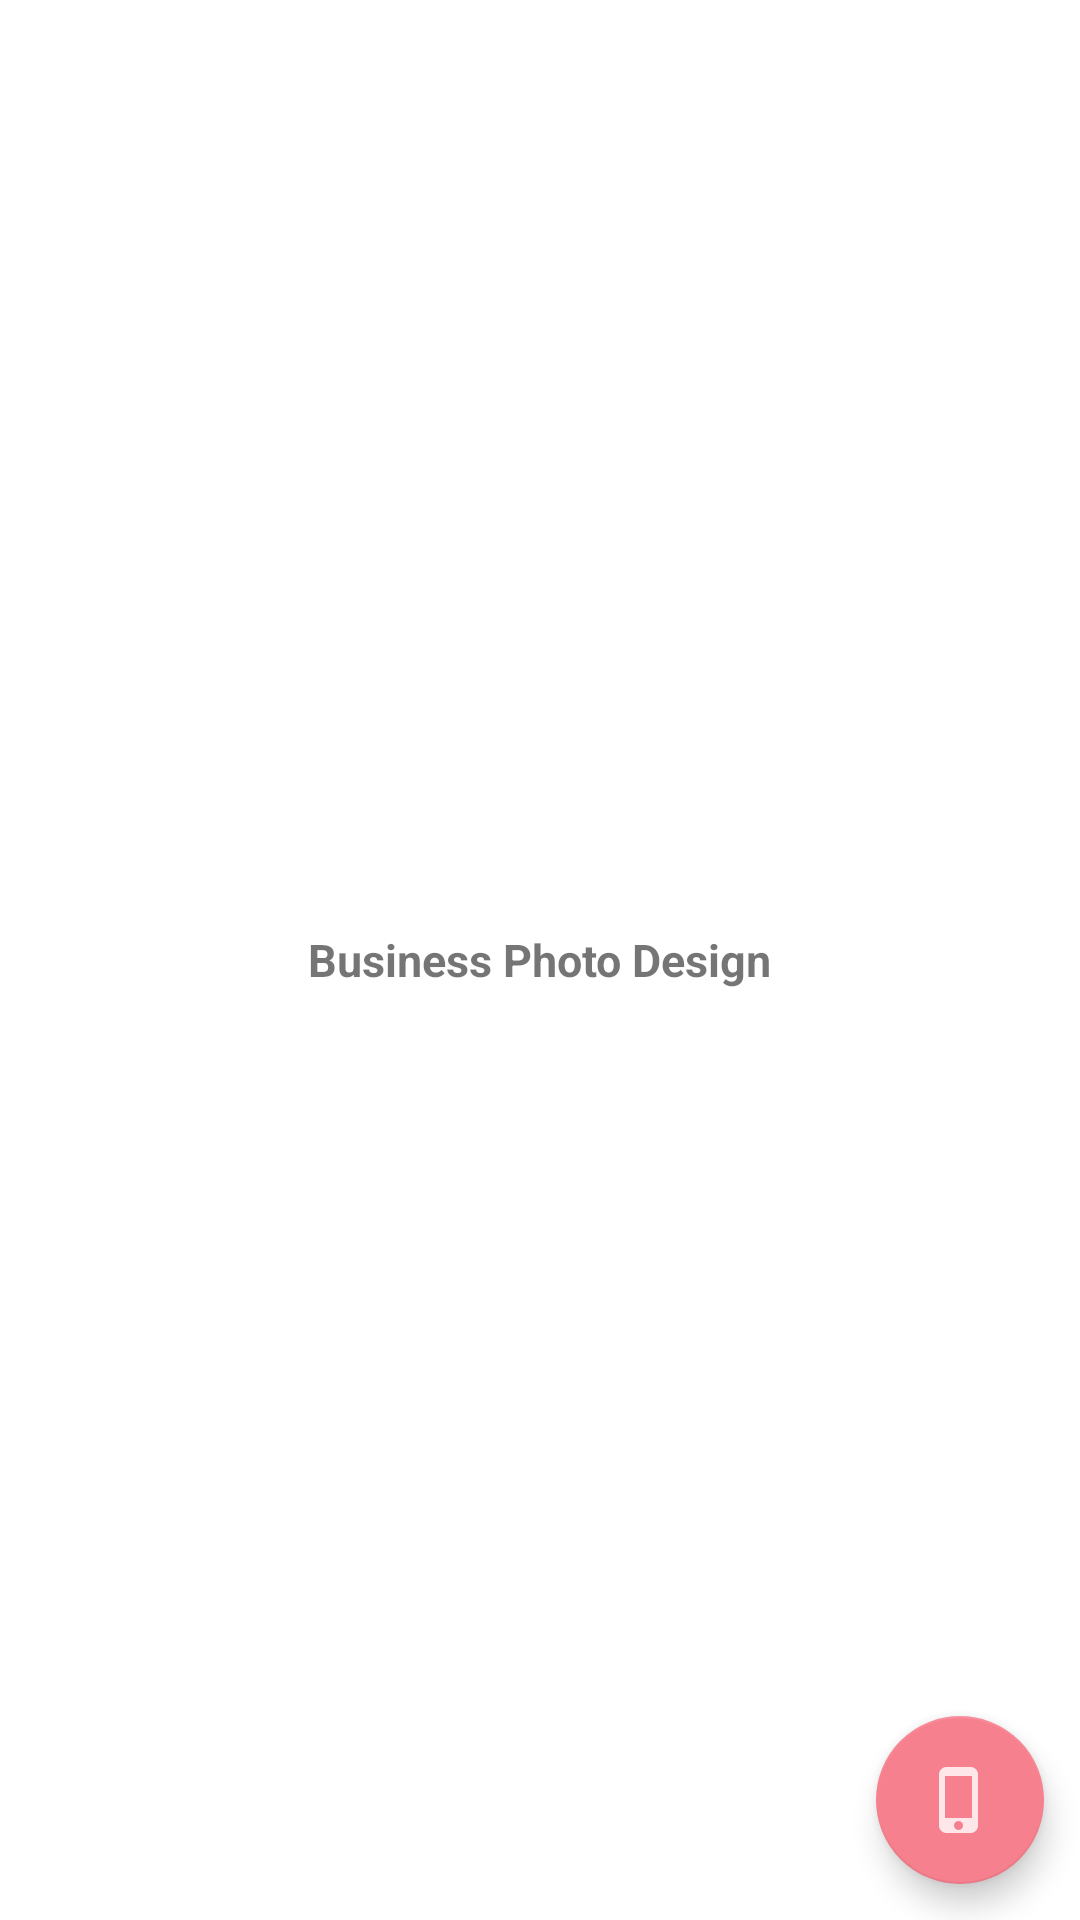

Locate icon controls on the screen. Image size 1080*1920, boxes as (x1, y1, x2, y2).
mobile: (876, 1716, 1044, 1884)
